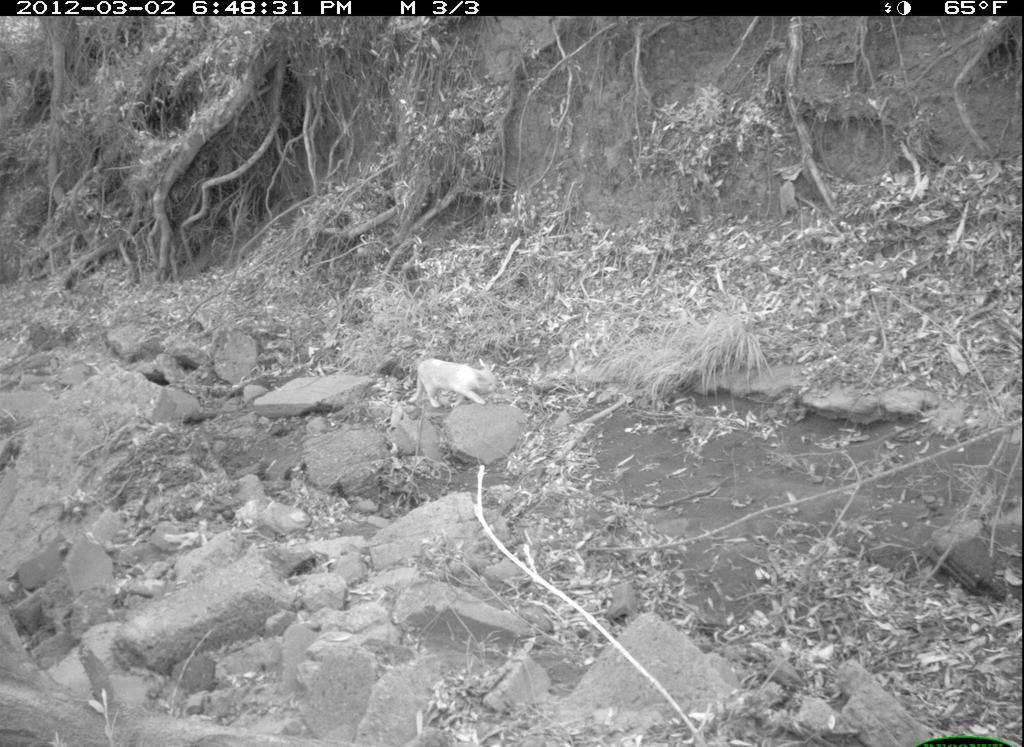cat: (405, 346, 507, 413)
